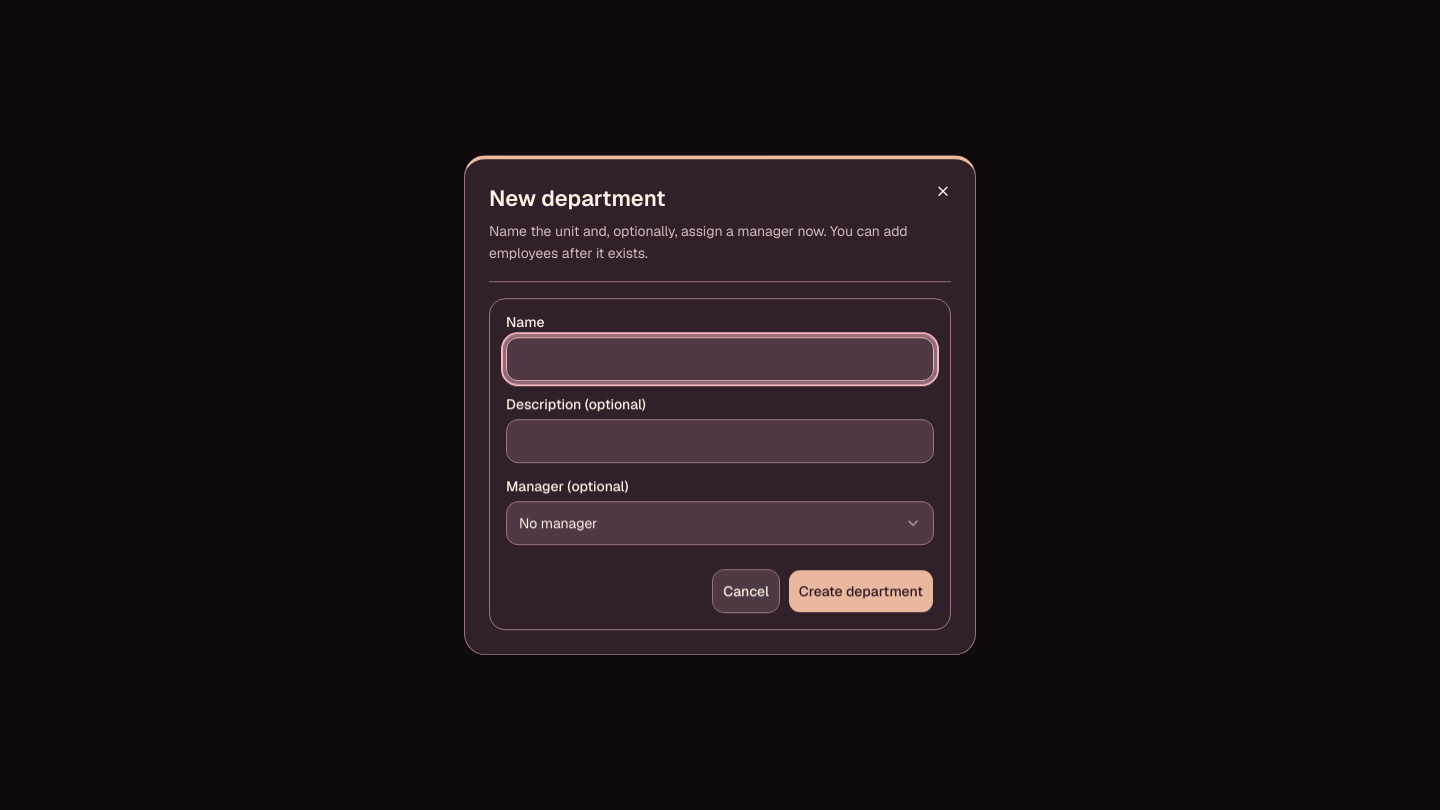
Test case: CreateDepartmentDialog › maps field errors onto the inputs
Step 1. Type "System" into the field labelled "Name" → (720, 359), box [506,337,934,381]
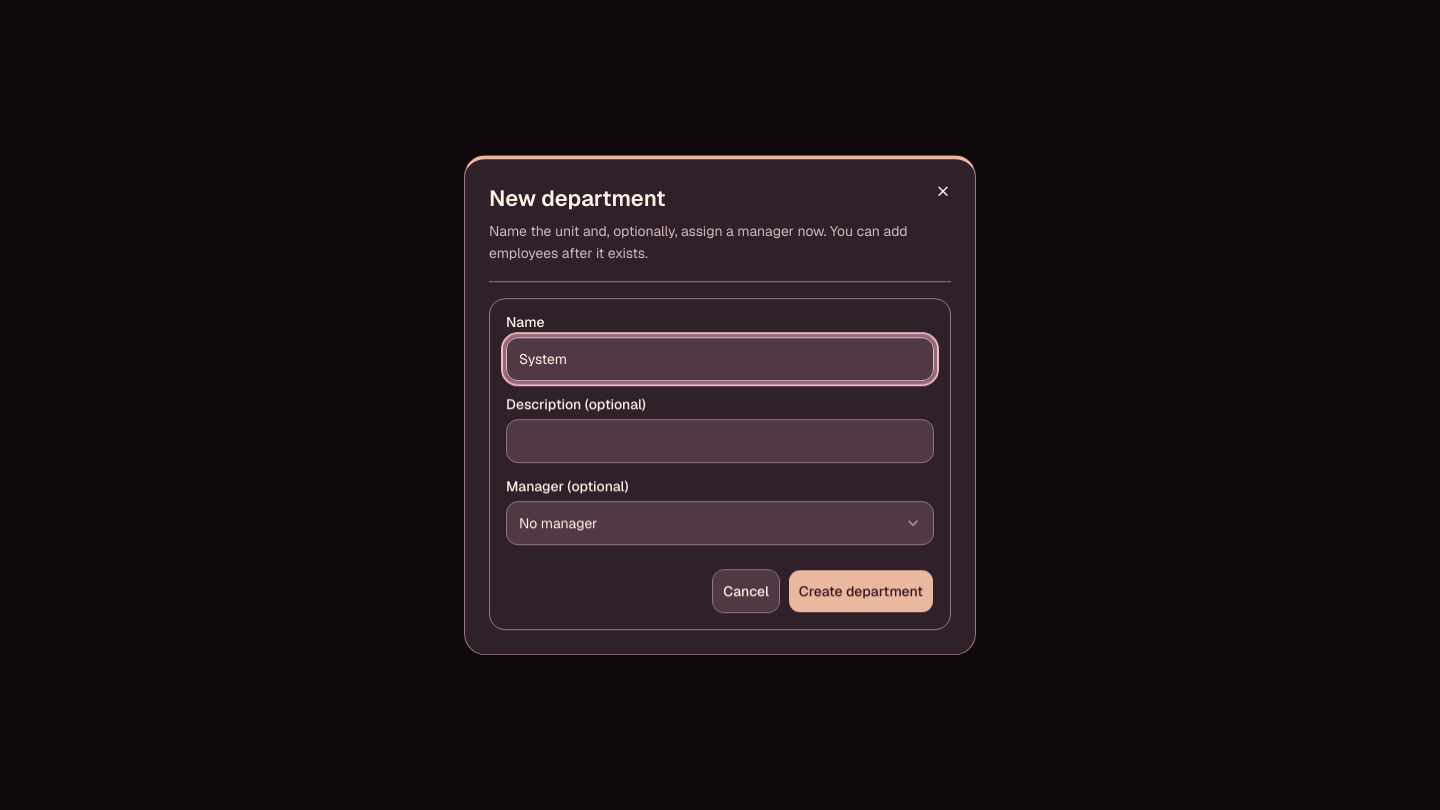
Step 2. Click the button "Create department" → (861, 591), box [788,569,934,613]
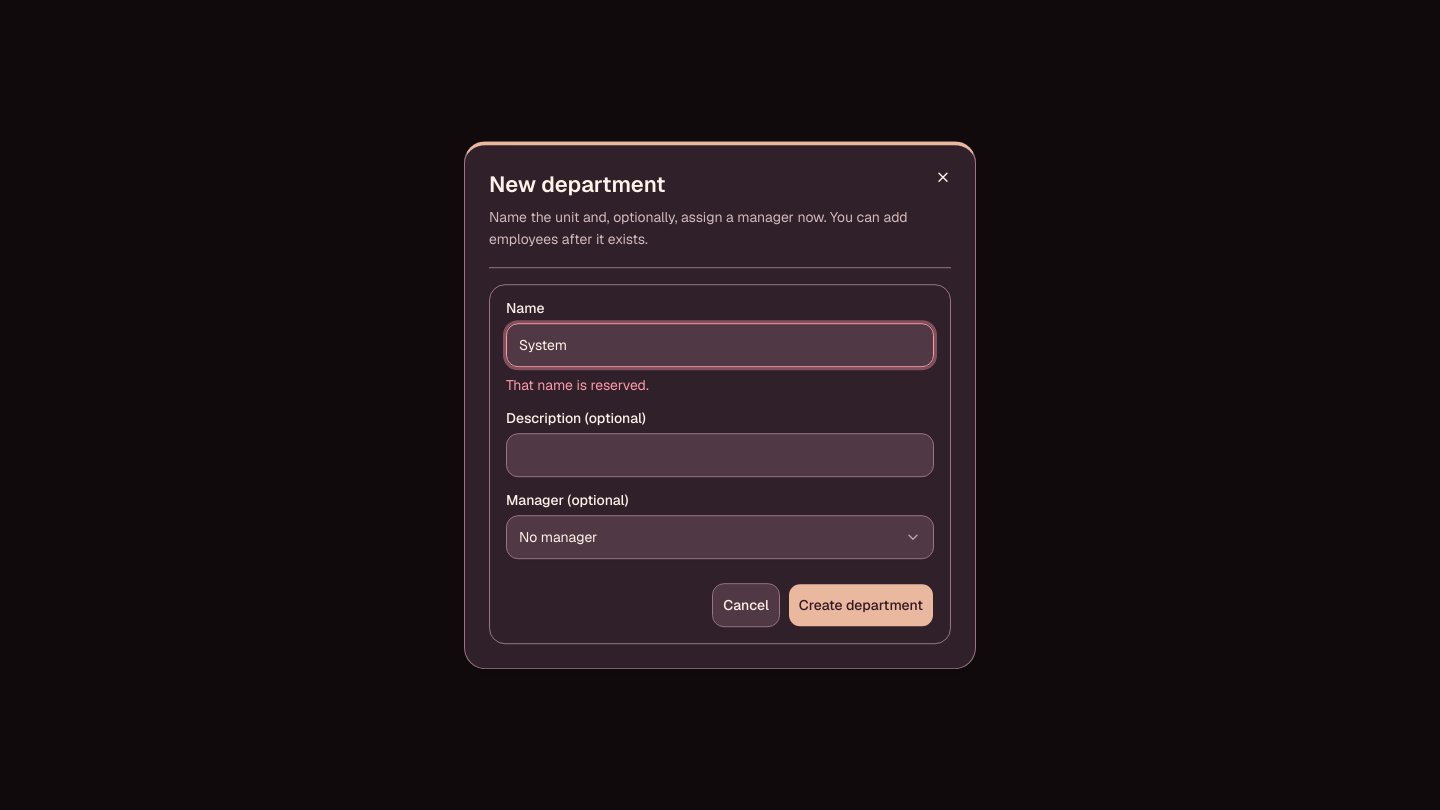
expect the text "That name is reserved." is shown: met, box [506,376,649,394]
